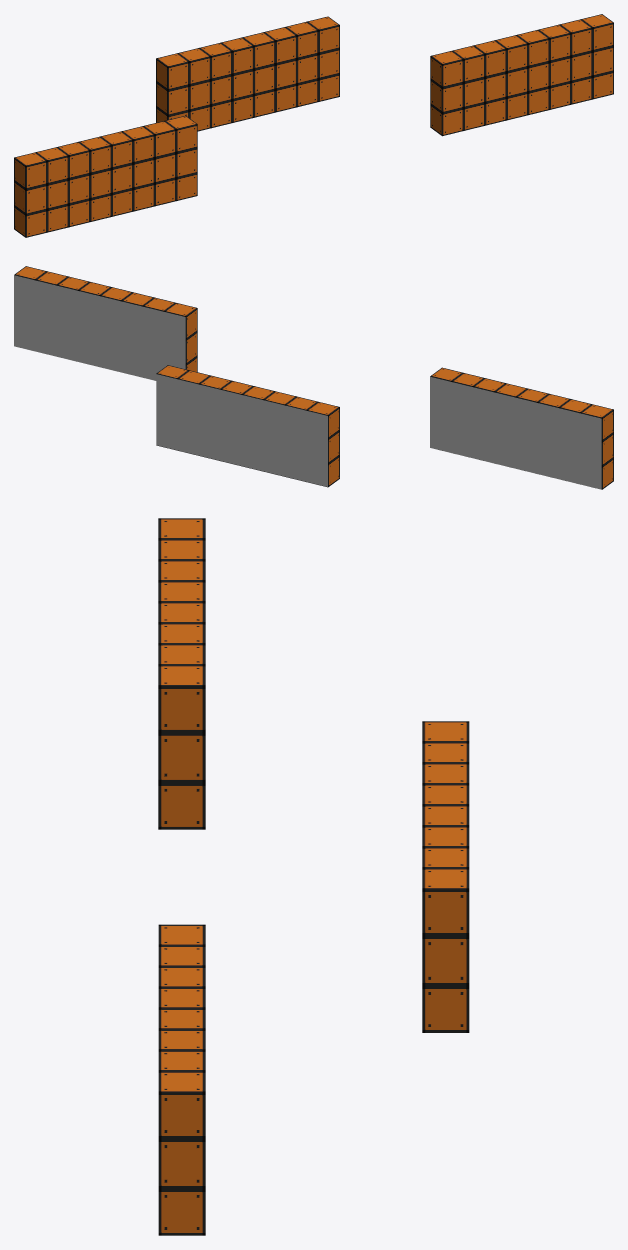
File: floating_plate_set.dae
3 views of the same model, one above another, from view 1: azimuth 30°, elevation 25°; view 2: azimuth 150°, elevation 25°; view 3: azimuth 270°, elevation 25° (orthographic). The views are drawn at different scales.
Parts seen in each view (by area): view 1: floating_plate2Shape, floating_plate3Shape, floating_plate1Shape; view 2: inkMesh_leftShape, inkMesh_centerShape, inkMesh_rightShape, floating_plate1Shape (×2), floating_plate2Shape (×2), floating_plate3Shape; view 3: floating_plate1Shape, floating_plate2Shape, floating_plate3Shape.
Boxes of the visible parts, left/top/right/bottom form: floating_plate2Shape: left=14, top=115, right=197, bottom=237; floating_plate3Shape: left=430, top=14, right=613, bottom=136; floating_plate1Shape: left=156, top=16, right=339, bottom=131; inkMesh_leftShape: left=430, top=376, right=601, bottom=489; inkMesh_centerShape: left=156, top=374, right=327, bottom=486; inkMesh_rightShape: left=14, top=275, right=185, bottom=380; floating_plate1Shape (×2): left=156, top=365, right=339, bottom=487; floating_plate2Shape (×2): left=430, top=367, right=613, bottom=489; floating_plate3Shape: left=14, top=266, right=197, bottom=372; floating_plate1Shape: left=422, top=721, right=469, bottom=1032; floating_plate2Shape: left=158, top=518, right=205, bottom=829; floating_plate3Shape: left=158, top=924, right=205, bottom=1235.
Bounding box in the file's own units: 119 × 27.19 × 13.86.
